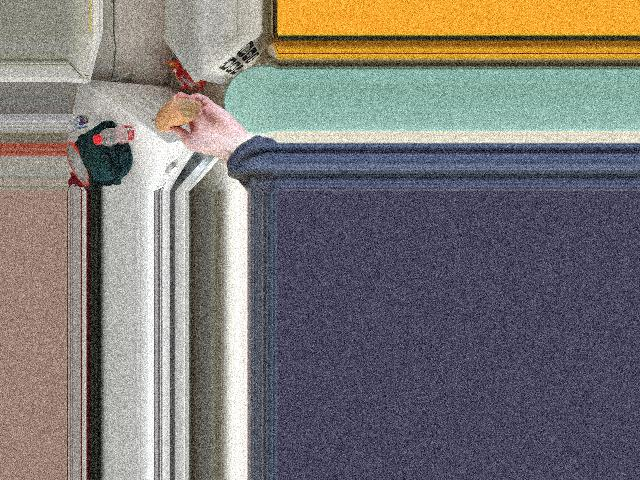sweet_potato: (155, 98, 195, 130)
